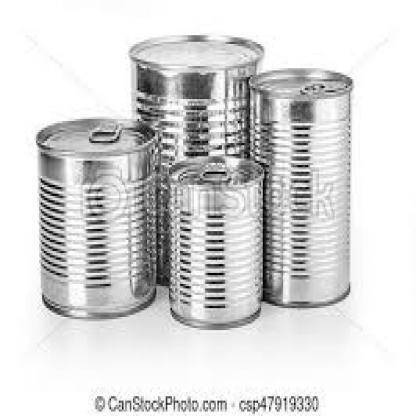METAL: (127, 35, 264, 291), (247, 66, 352, 308), (34, 117, 155, 319), (164, 154, 263, 328)
